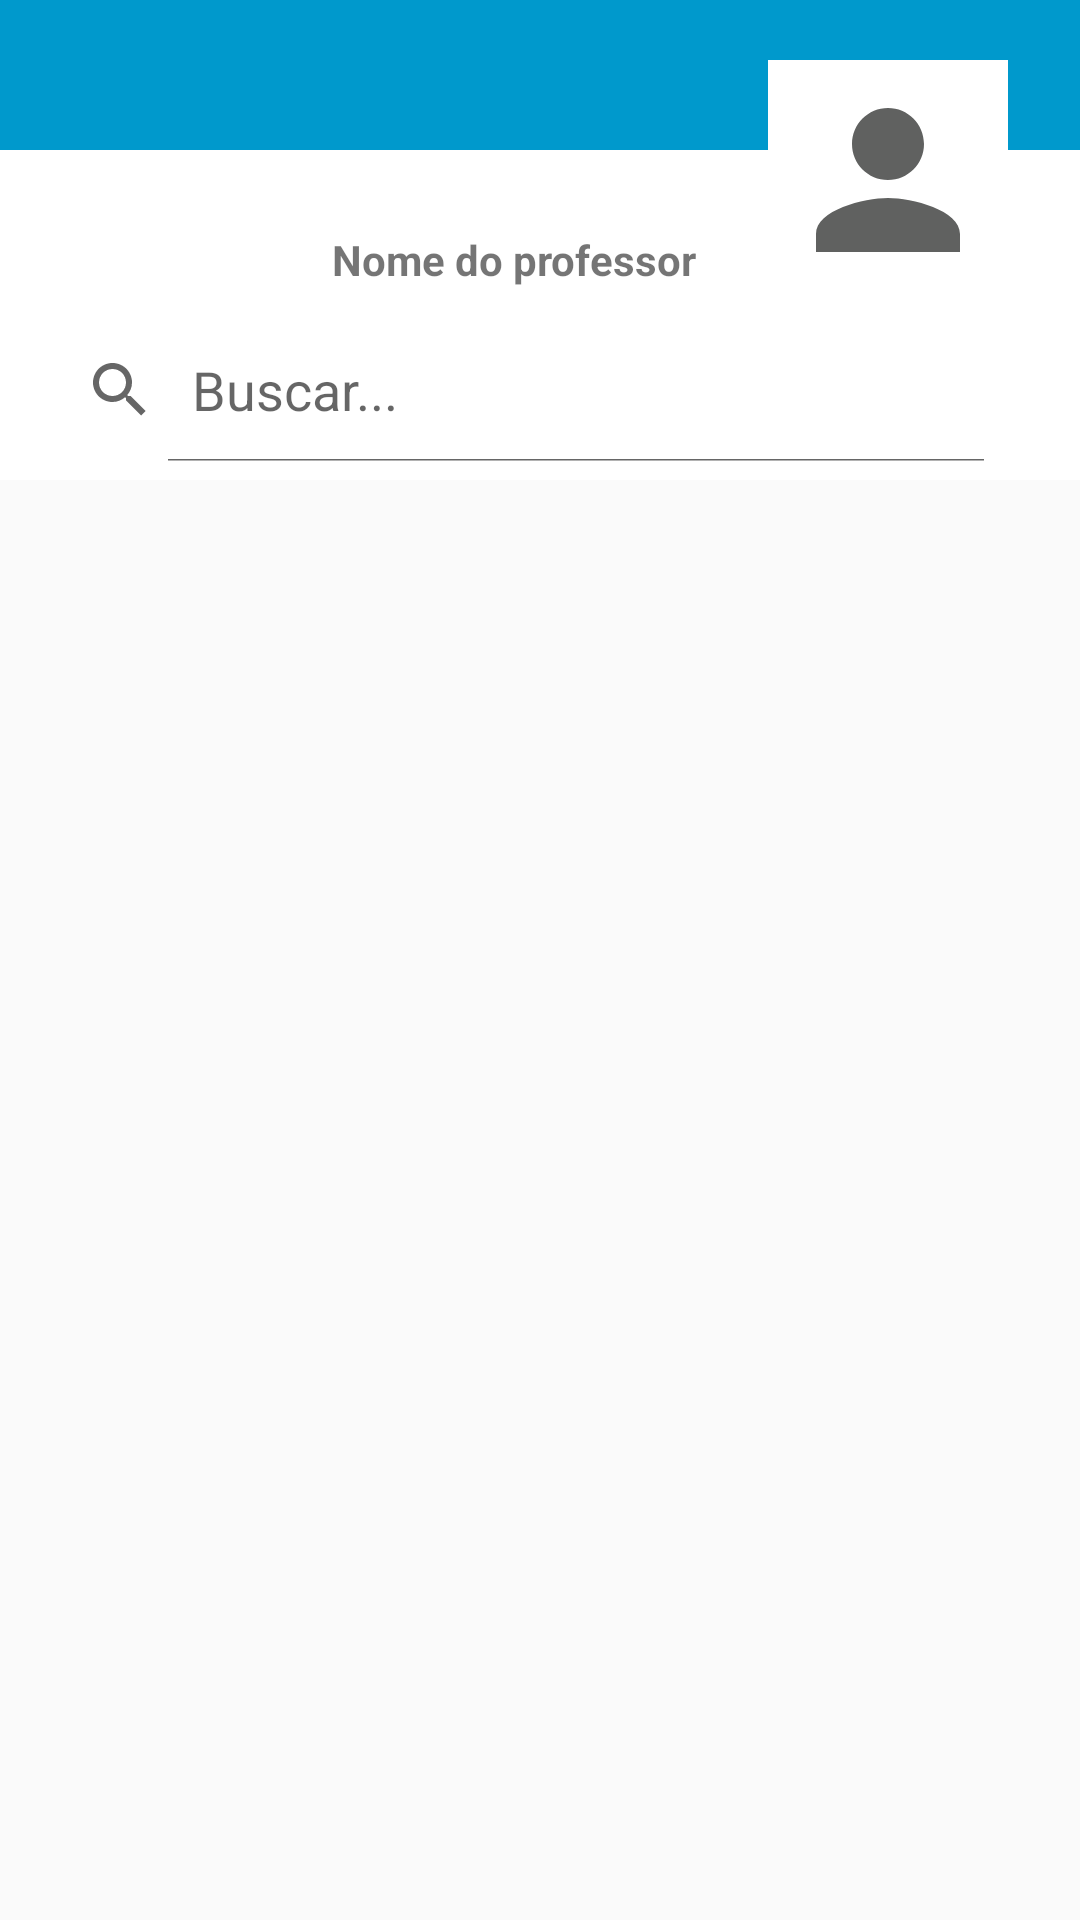

Icons on this 1080 x 1920 Android screen, each with the point to tap as (x=x, y=y):
person pic: (x=888, y=180)
